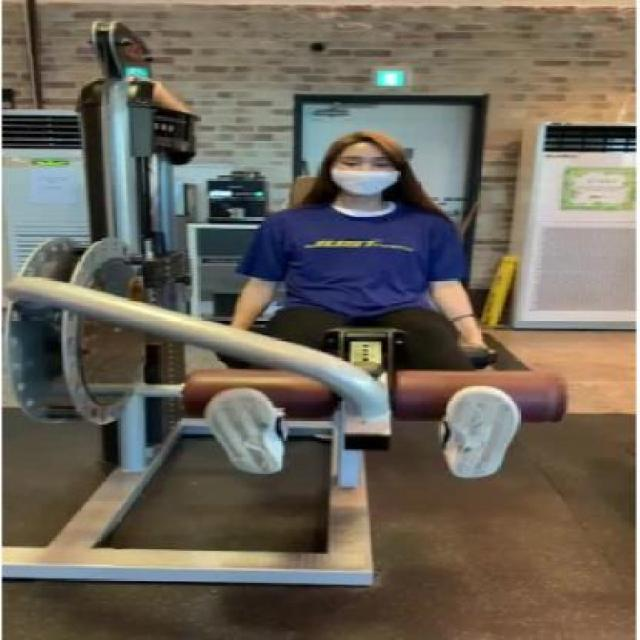leg extension: (0, 20, 591, 608)
